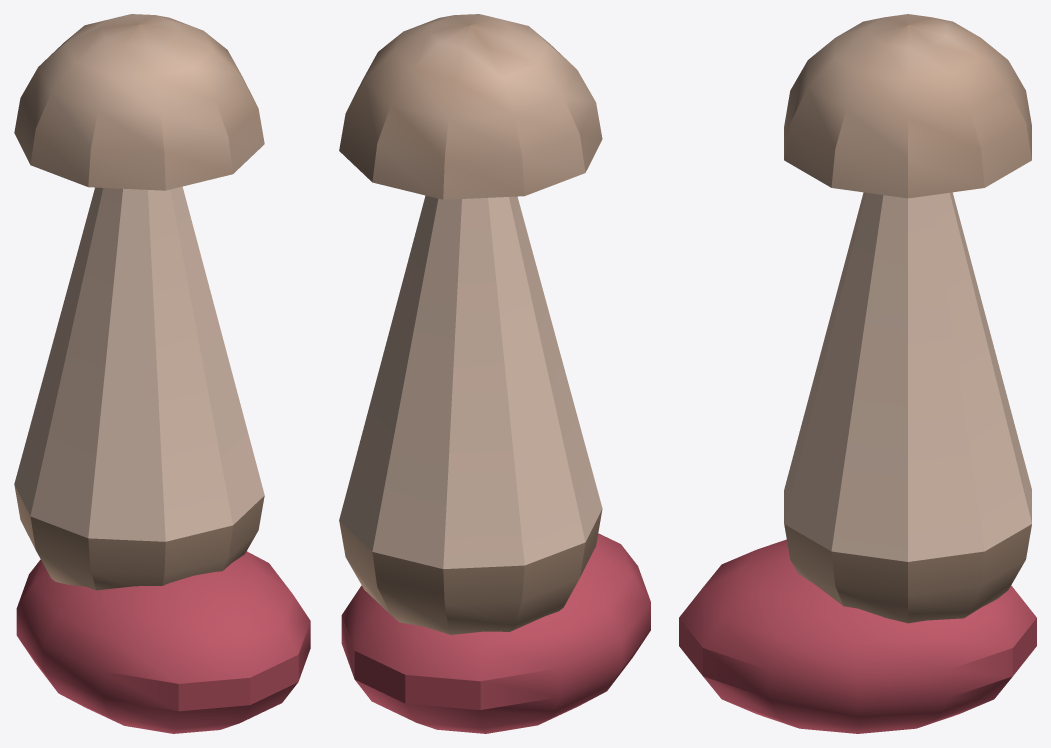
File: girl-legL.glb
The picture shows the model from 3 angles, left to right: view 1: azimuth 30°, elevation 25°; view 2: azimuth 150°, elevation 25°; view 3: azimuth 270°, elevation 25°; orthographic projection. The views are drawn at different scales.
Visible parts, largest first — view 1: player_girl:legL; view 2: player_girl:legL; view 3: player_girl:legL.
Part boxes in pixels (left/top/right/bottom): player_girl:legL: left=14, top=14, right=310, bottom=733; player_girl:legL: left=339, top=14, right=650, bottom=733; player_girl:legL: left=679, top=14, right=1036, bottom=733.
Bounding box in the file's own units: 0.1142 × 0.303 × 0.1428.
